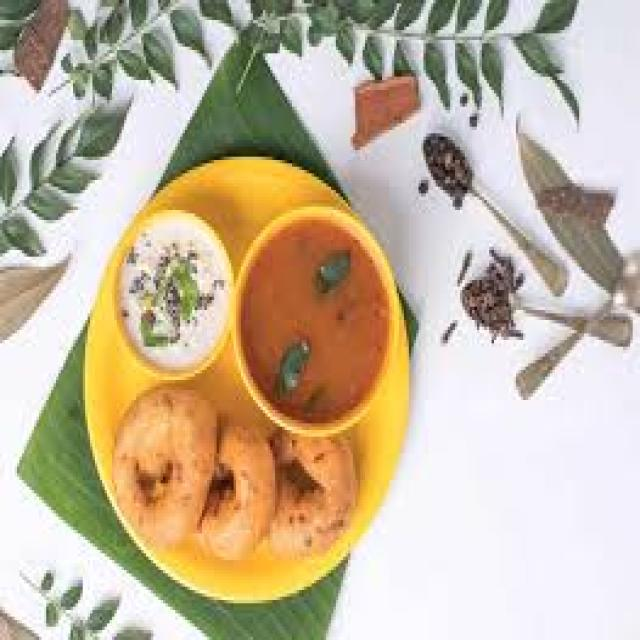MEDU VADA: (112, 390, 217, 543), (197, 427, 273, 557), (270, 437, 355, 553)
